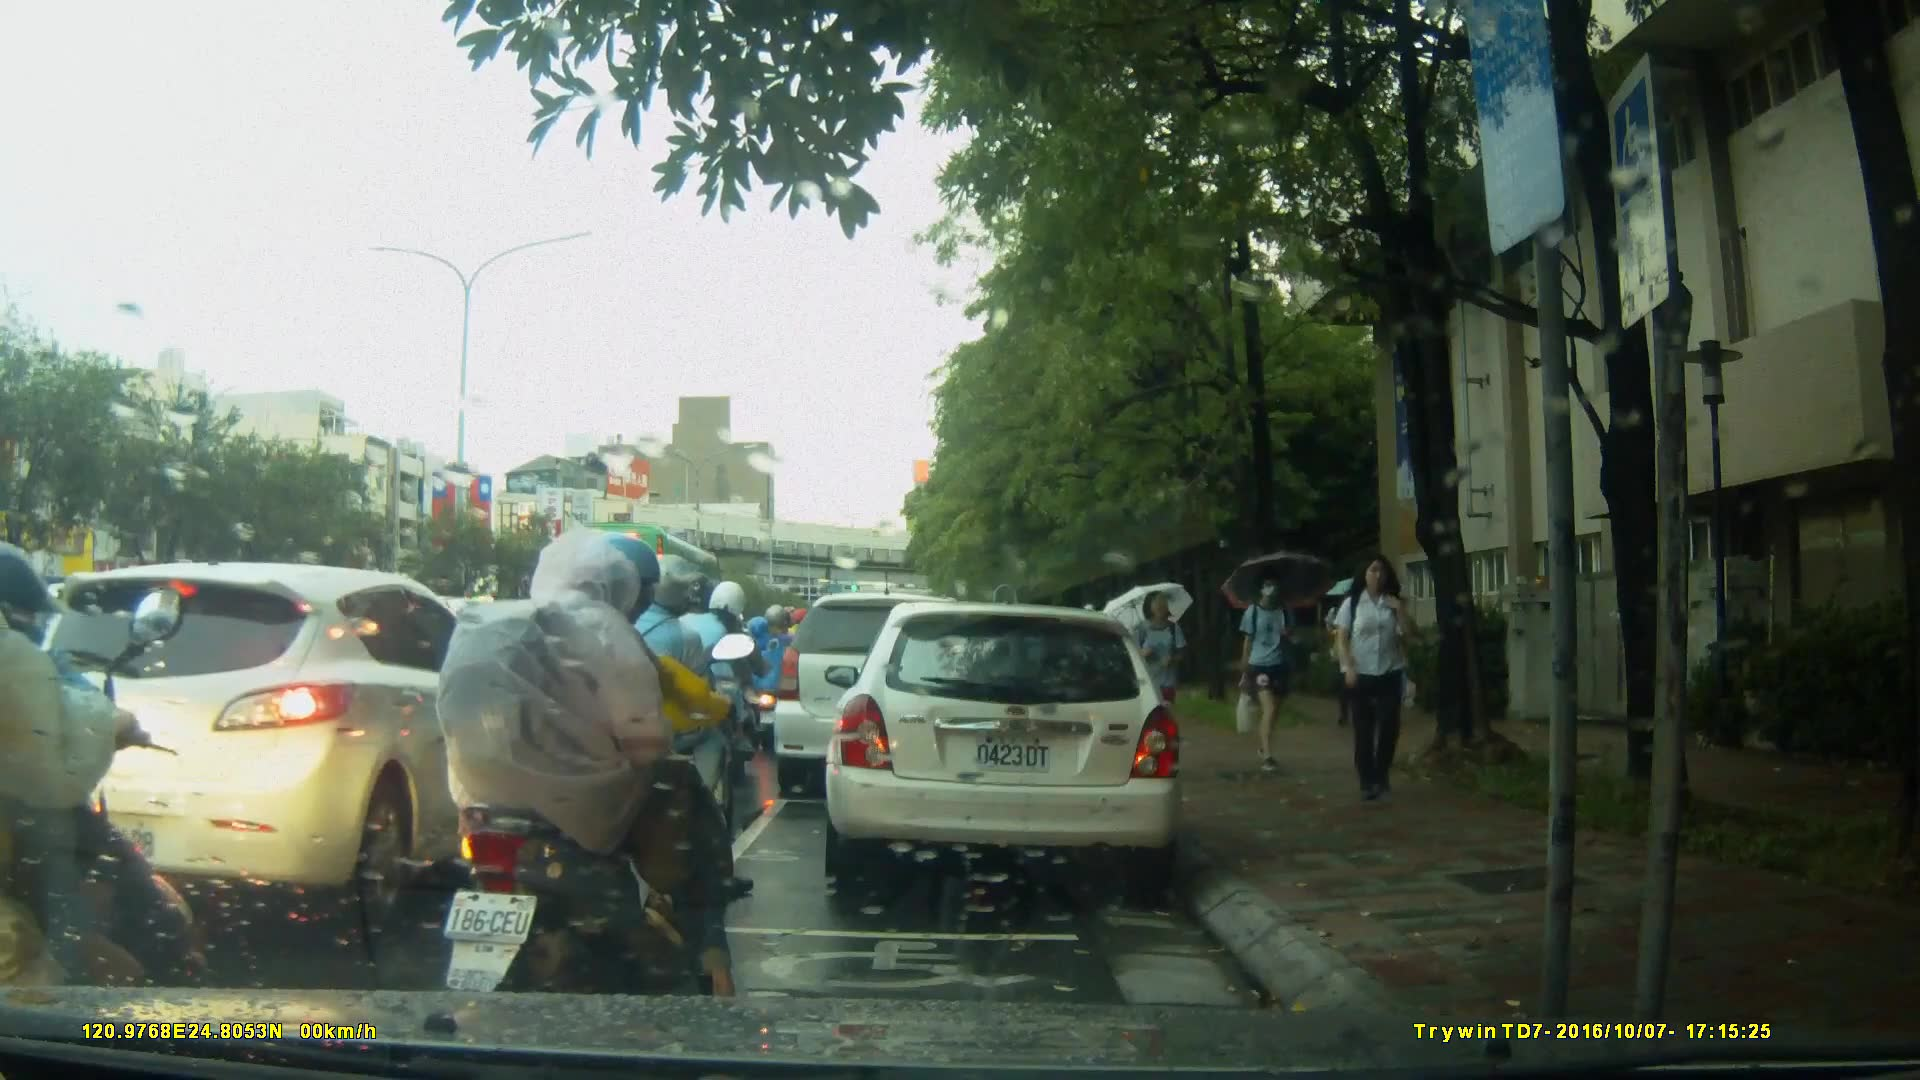pedestrian: (1323, 549, 1422, 812), (1223, 562, 1303, 777), (1129, 593, 1191, 745), (1136, 606, 1176, 737)
rider: (452, 530, 764, 1017), (1, 538, 210, 1070), (593, 557, 739, 875), (638, 576, 758, 849), (737, 603, 800, 746)
vehicle: (23, 561, 564, 922), (822, 604, 1186, 882), (774, 595, 995, 802), (554, 519, 739, 666)
